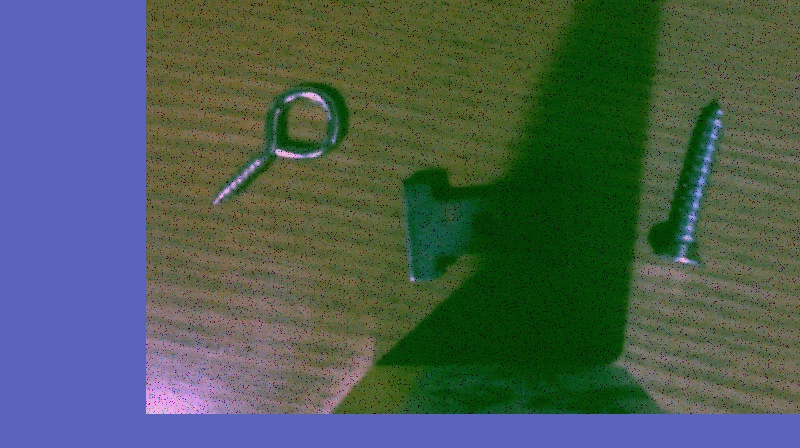O001: (205, 83, 348, 211)
O002: (398, 158, 571, 284)
S001: (642, 92, 728, 275)
